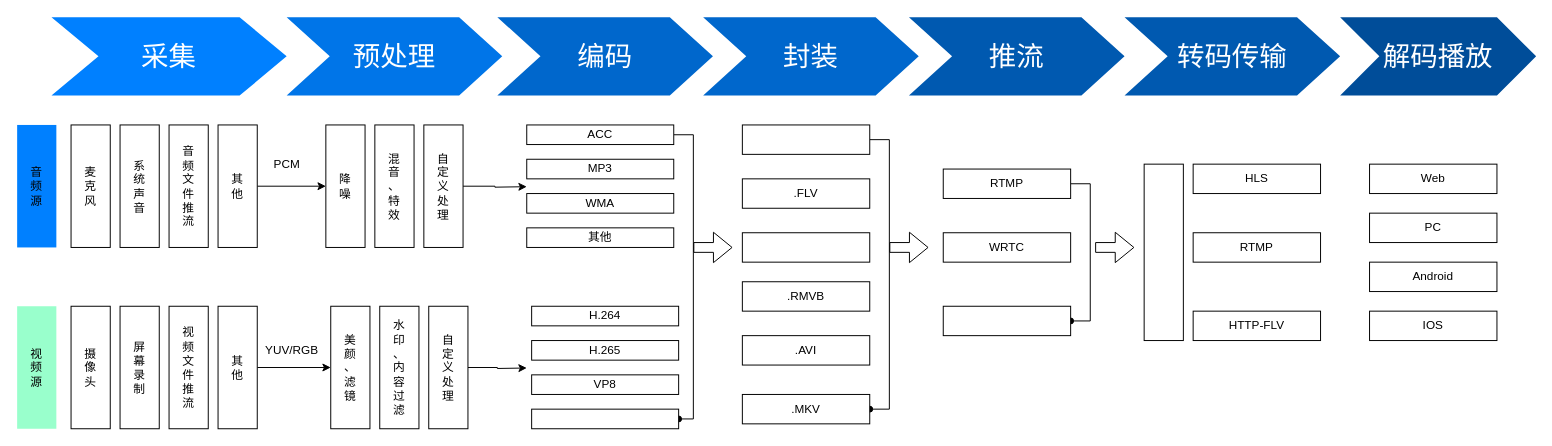
Some shapes in this 1552 by 446 pixel diagram are drawn without their labels. The shapes that lost their labels are listed below. From the top down, each one's box as (x1, y1, x2, y2) in pixels, then its label:
(741, 124, 870, 154): .TS
(741, 232, 870, 262): .MP4
(1143, 163, 1183, 341): CDN
(942, 305, 1071, 336): 私有协议
(531, 408, 679, 429): VP9
